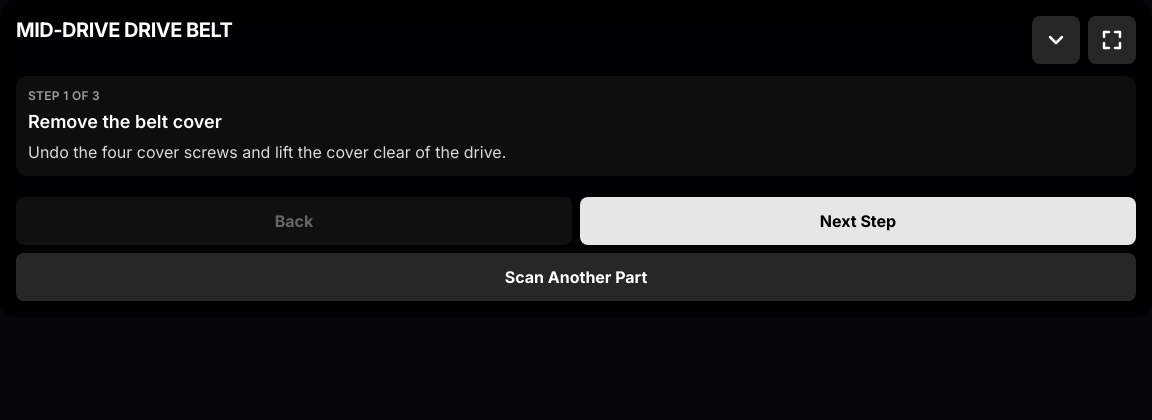
Scenario: HudCard sizing › maximizes next to minimize and restores back to normal
Click the button named "Maximize steps".
click(1112, 40)  # box [1088,16,1136,64]
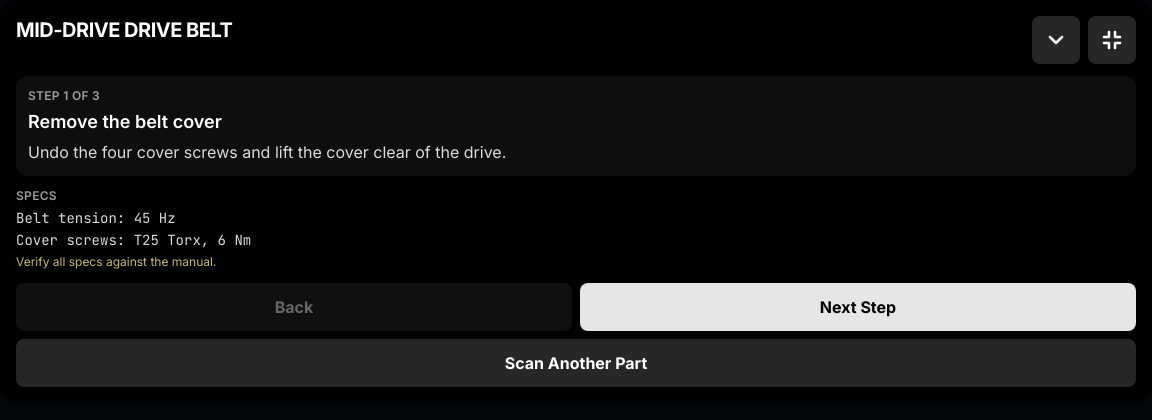
Check: the text "Remove the belt cover" is shown, box [28,111,222,132]
Check: the element named "Minimize steps" has class "max-h-[74dvh]"
Click the button named "Restore steps".
click(1112, 40)  # box [1088,16,1136,64]
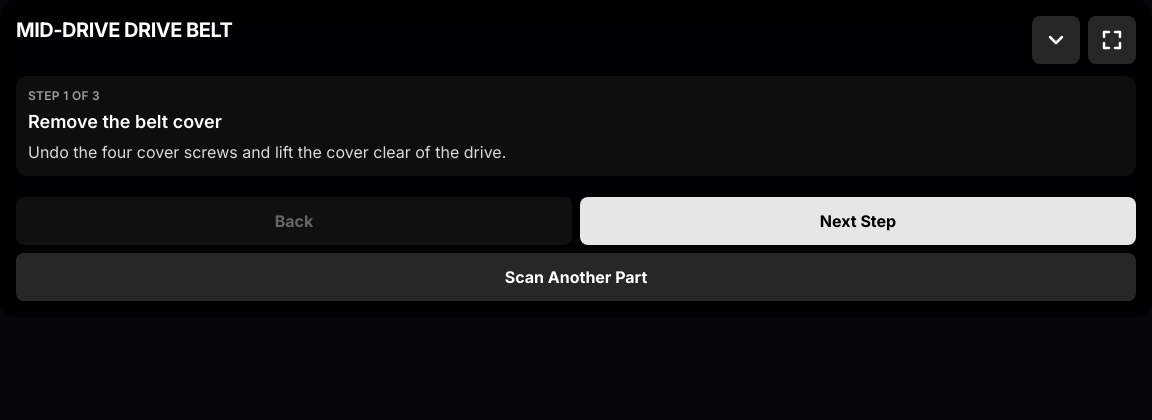
Check: the button named "Maximize steps" is shown, box [1088,16,1136,64]
